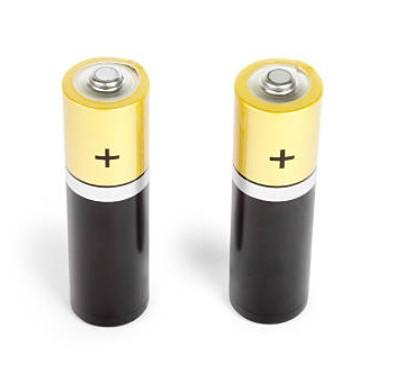Battery: (227, 58, 324, 327), (60, 56, 151, 329)
